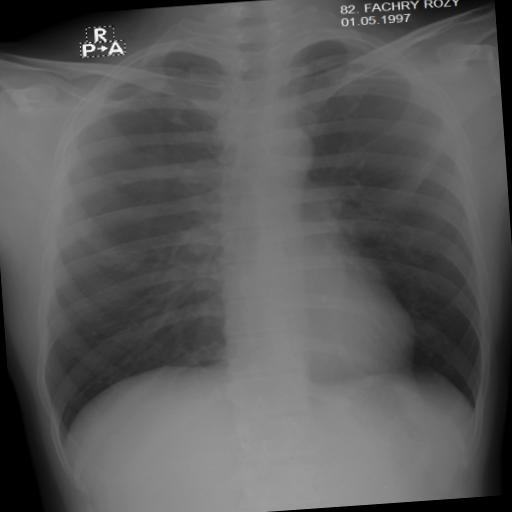normal: (9, 6, 497, 462)
